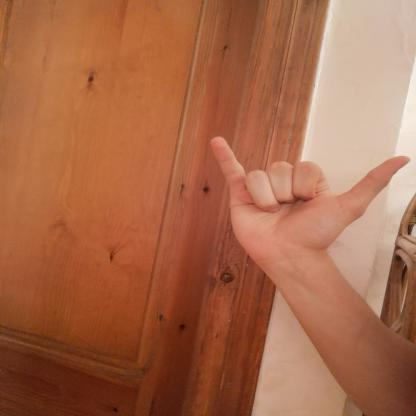YA: (194, 126, 415, 271)
